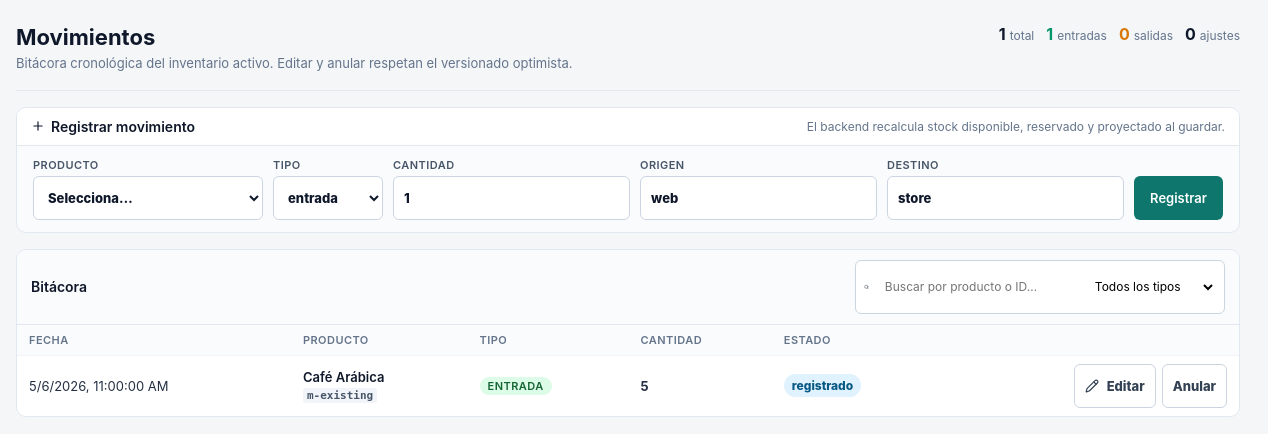
Scenario: InventoryMovementsPage › shows a success toast after a movement is registered
Select "Café Arábica" in the dropdown labelled "Producto": coordinates (148, 198) [33, 176, 263, 220]
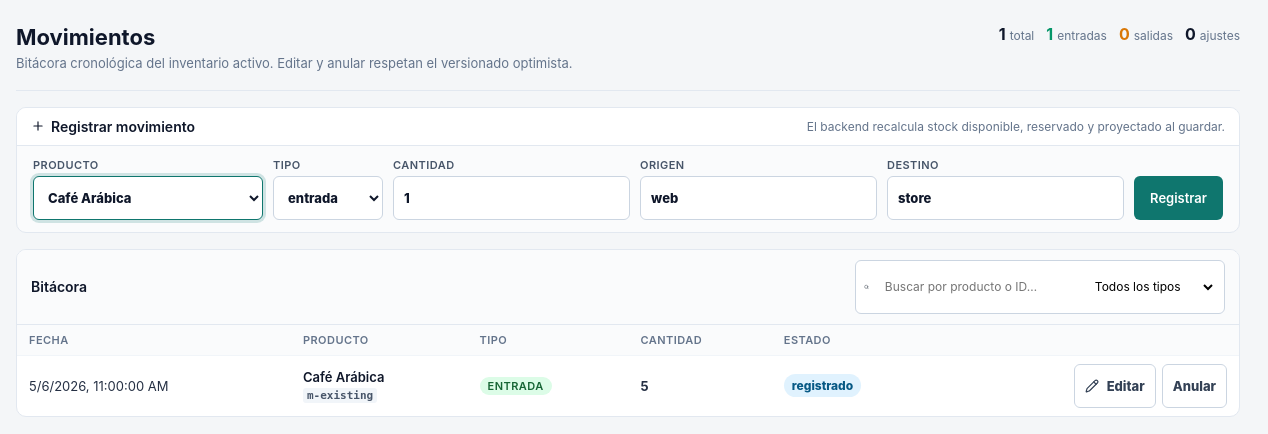
Replace the text in the number field labelled "Cantidad" with "3": coordinates (512, 198) [393, 176, 630, 220]
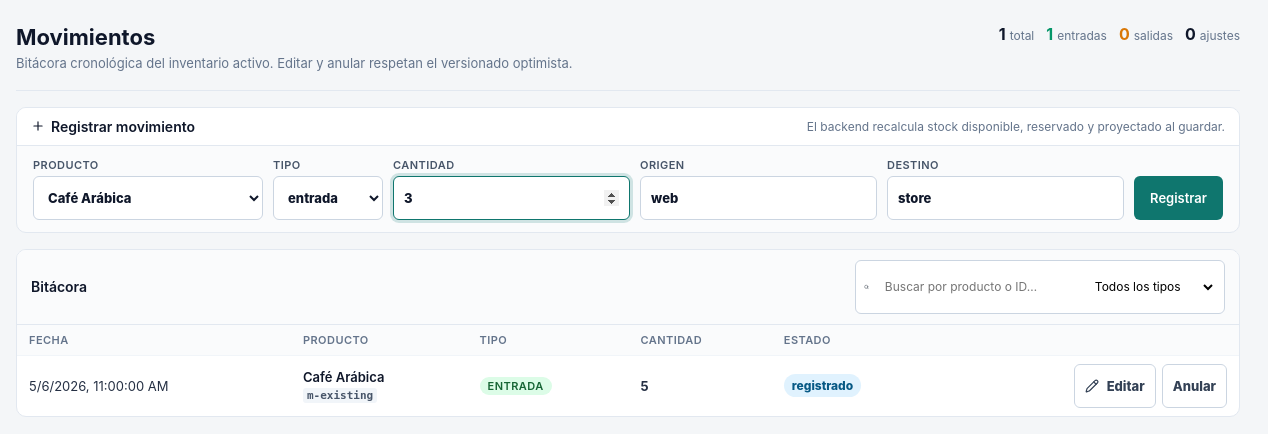
Click the button "Registrar": coordinates (1179, 198) [1134, 176, 1223, 220]
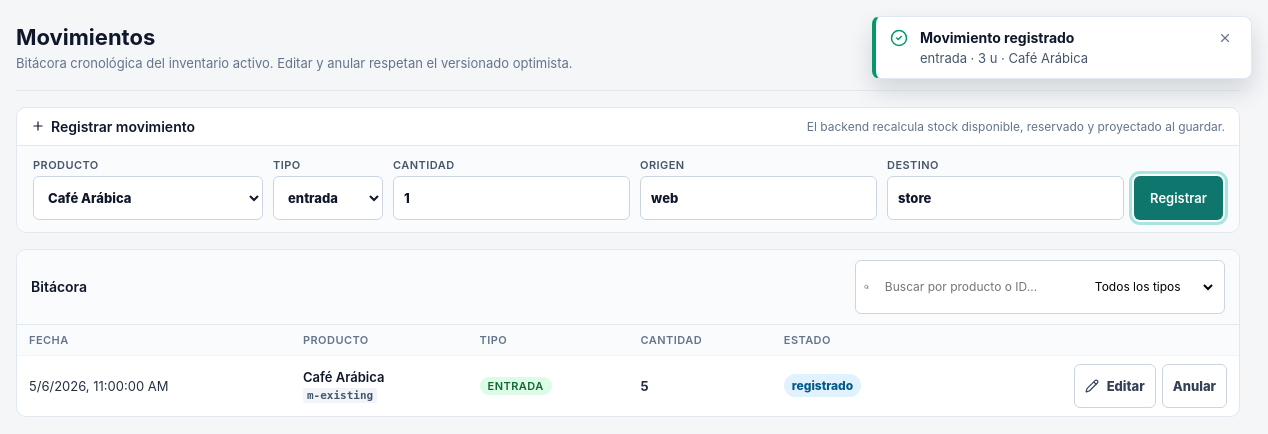
Expected: the text "Movimiento registrado" is shown, [920, 29, 1074, 46]
